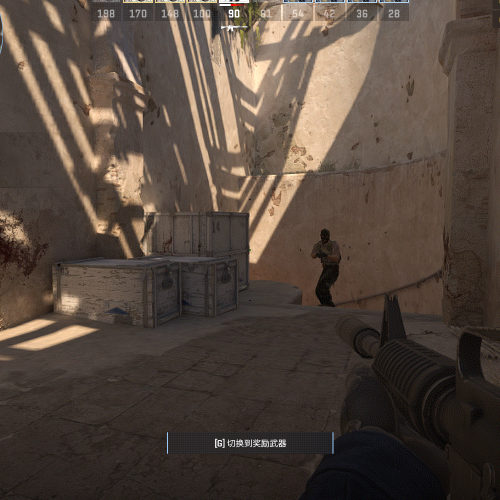t_body: (311, 228, 341, 307)
t_head: (320, 228, 331, 244)
